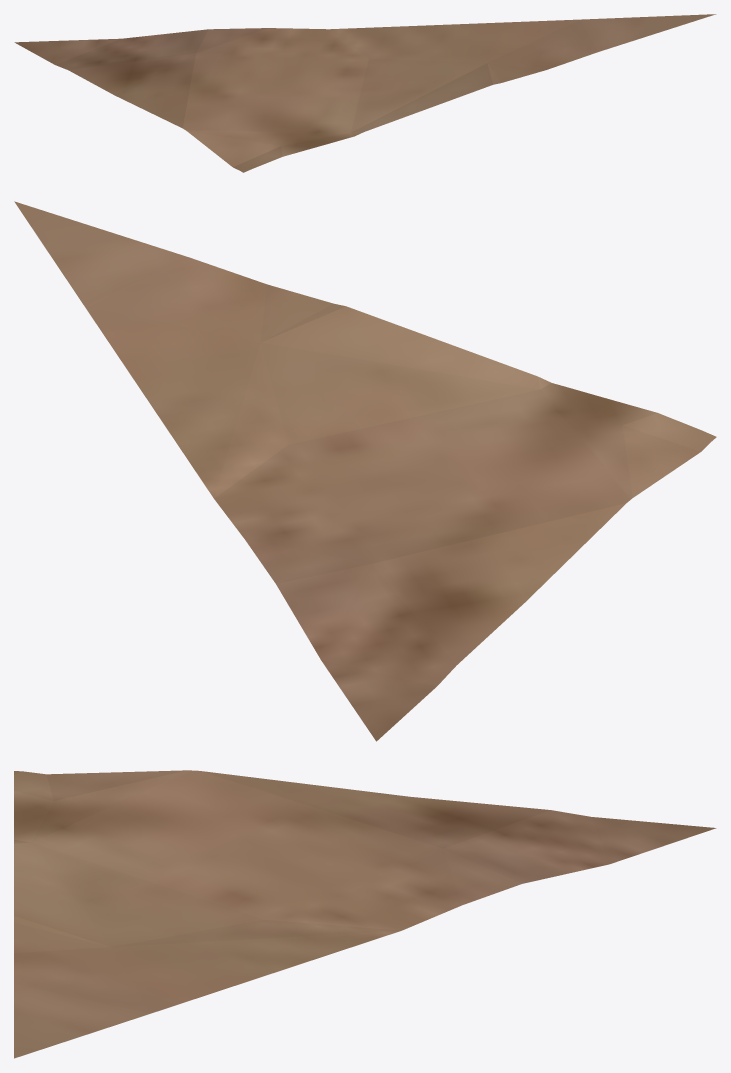
The picture shows the model from 3 angles, top to bottom: view 1: azimuth 30°, elevation 25°; view 2: azimuth 150°, elevation 25°; view 3: azimuth 270°, elevation 25°; orthographic projection. The views are drawn at different scales.
Bounding box in the file's own units: 1.43 × 0.2328 × 1.2.
1 material, 1 textured.
